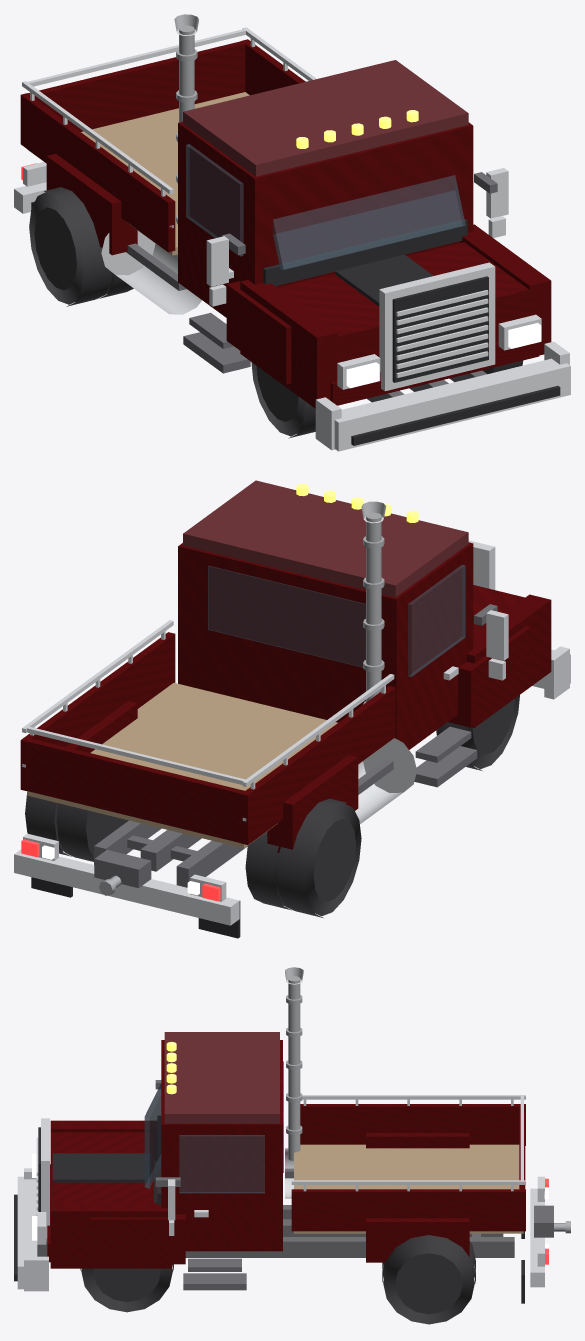
The model's file is truck.glb.
3 renders of one model, top to bottom at view 1: azimuth 30°, elevation 25°; view 2: azimuth 150°, elevation 25°; view 3: azimuth 270°, elevation 25°, orthographic. The views are drawn at different scales.
Visible parts, largest first — view 1: body, wheel_RL2, wheel_FL, light_head_L, light_head_R; view 2: body, wheel_RL2, wheel_RR, wheel_FL, wheel_RL, wheel_RR2; view 3: body, wheel_RR2, wheel_FR.
Part boxes in pixels (box(x1,y1,x2,y2)): body: box(14, 14, 570, 451); wheel_RL2: box(29, 187, 112, 306); wheel_FL: box(251, 362, 315, 438); light_head_L: box(346, 362, 379, 388); light_head_R: box(508, 323, 541, 348); body: box(14, 480, 570, 938); wheel_RL2: box(277, 798, 361, 917); wheel_RR: box(56, 803, 128, 861); wheel_FL: box(436, 695, 519, 770); wheel_RL: box(245, 832, 291, 910); wheel_RR2: box(25, 792, 71, 856); body: box(14, 967, 570, 1303); wheel_RR2: box(382, 1235, 475, 1324); wheel_FR: box(80, 1264, 173, 1312).
Bounding box in the file's own units: 3.02 × 3.24 × 6.18.
13 materials, 1 textured.
